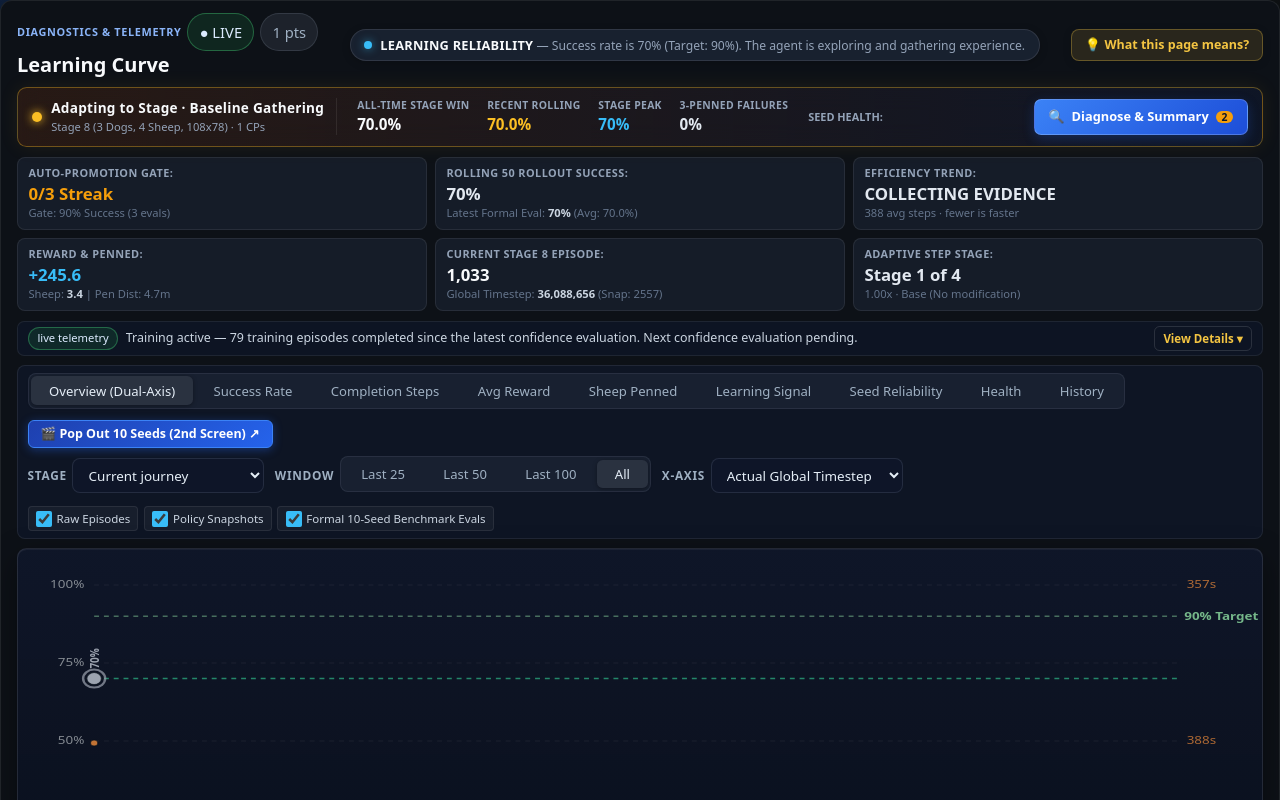
Test case: DiagnosticsPanel Live Insights & Telemetry › 2. Checkpoint 6550 is explicitly labeled as Checkpoint Sequence, not Environment Episode
Click the button with aria-label "expand details" at [1203, 338], box left=1154, top=326, right=1252, bottom=350
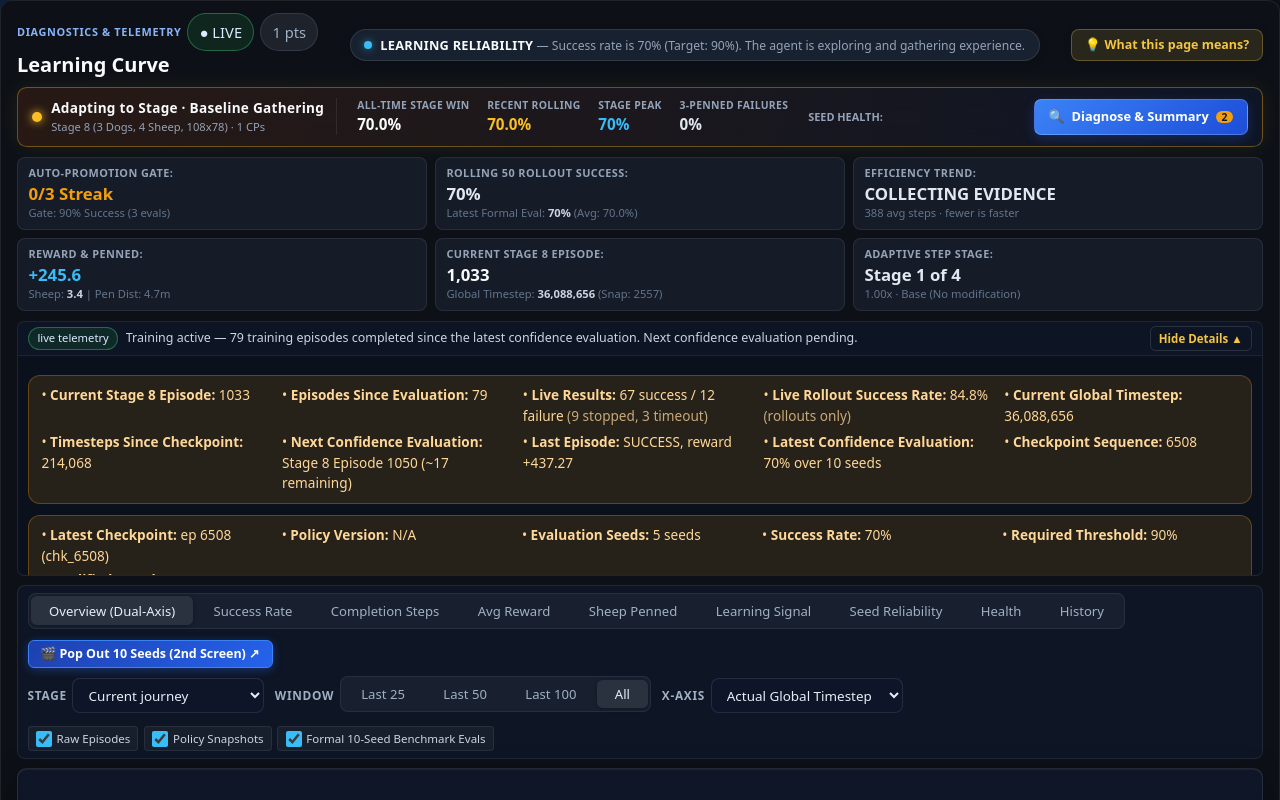
Expected: the text "Checkpoint Sequence:" is shown, left=1013, top=432, right=1162, bottom=452
